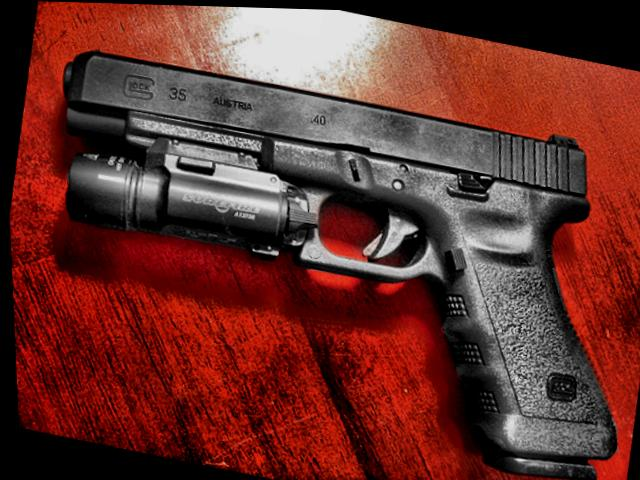pistol: (6, 28, 640, 480)
